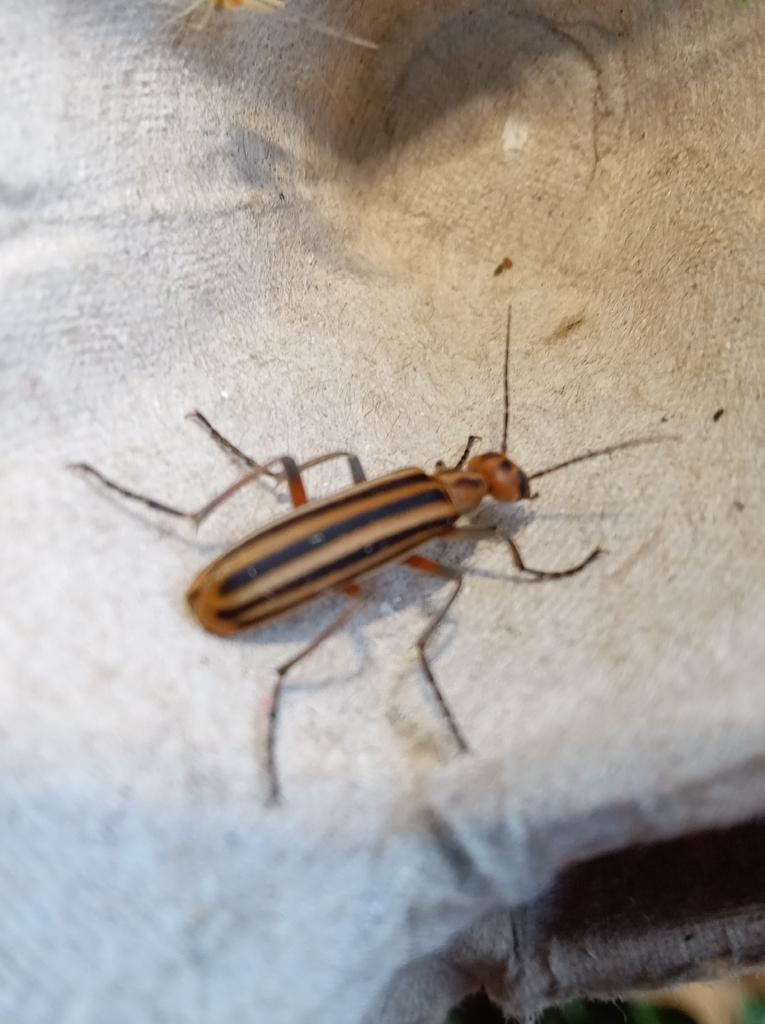blister_beetle: (0, 246, 749, 834)
